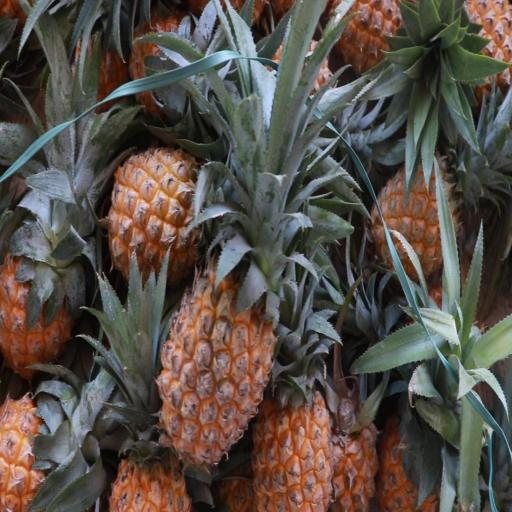Pineapple - v8 v1: (154, 226, 282, 468), (102, 130, 240, 290), (0, 208, 94, 380), (1, 377, 105, 512), (368, 146, 464, 290), (106, 366, 194, 512), (248, 367, 336, 512), (331, 377, 382, 512)
